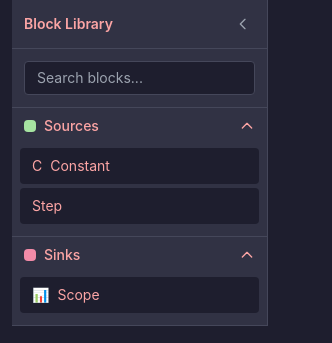
Scenario: Sidebar › search › shows no blocks when search has no matches
The width and height of the screenshot is (332, 343).
Type "nonexistentblock" into the field with placeholder "Search blocks...".
click(140, 78); type("nonexistentblock")  # box x1=24 y1=61 x2=255 y2=95
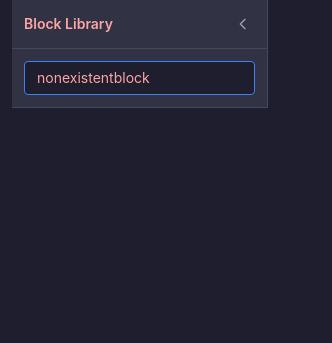
Expected: the text "Constant" is gone
Expected: the text "Step" is gone
Expected: the text "Scope" is gone
